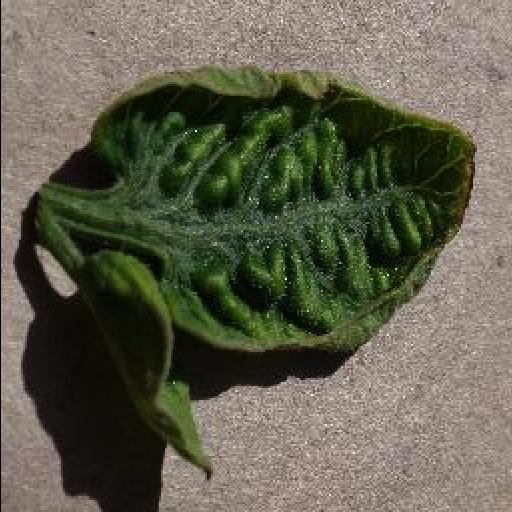disease_tomato: (96, 62, 482, 354)
